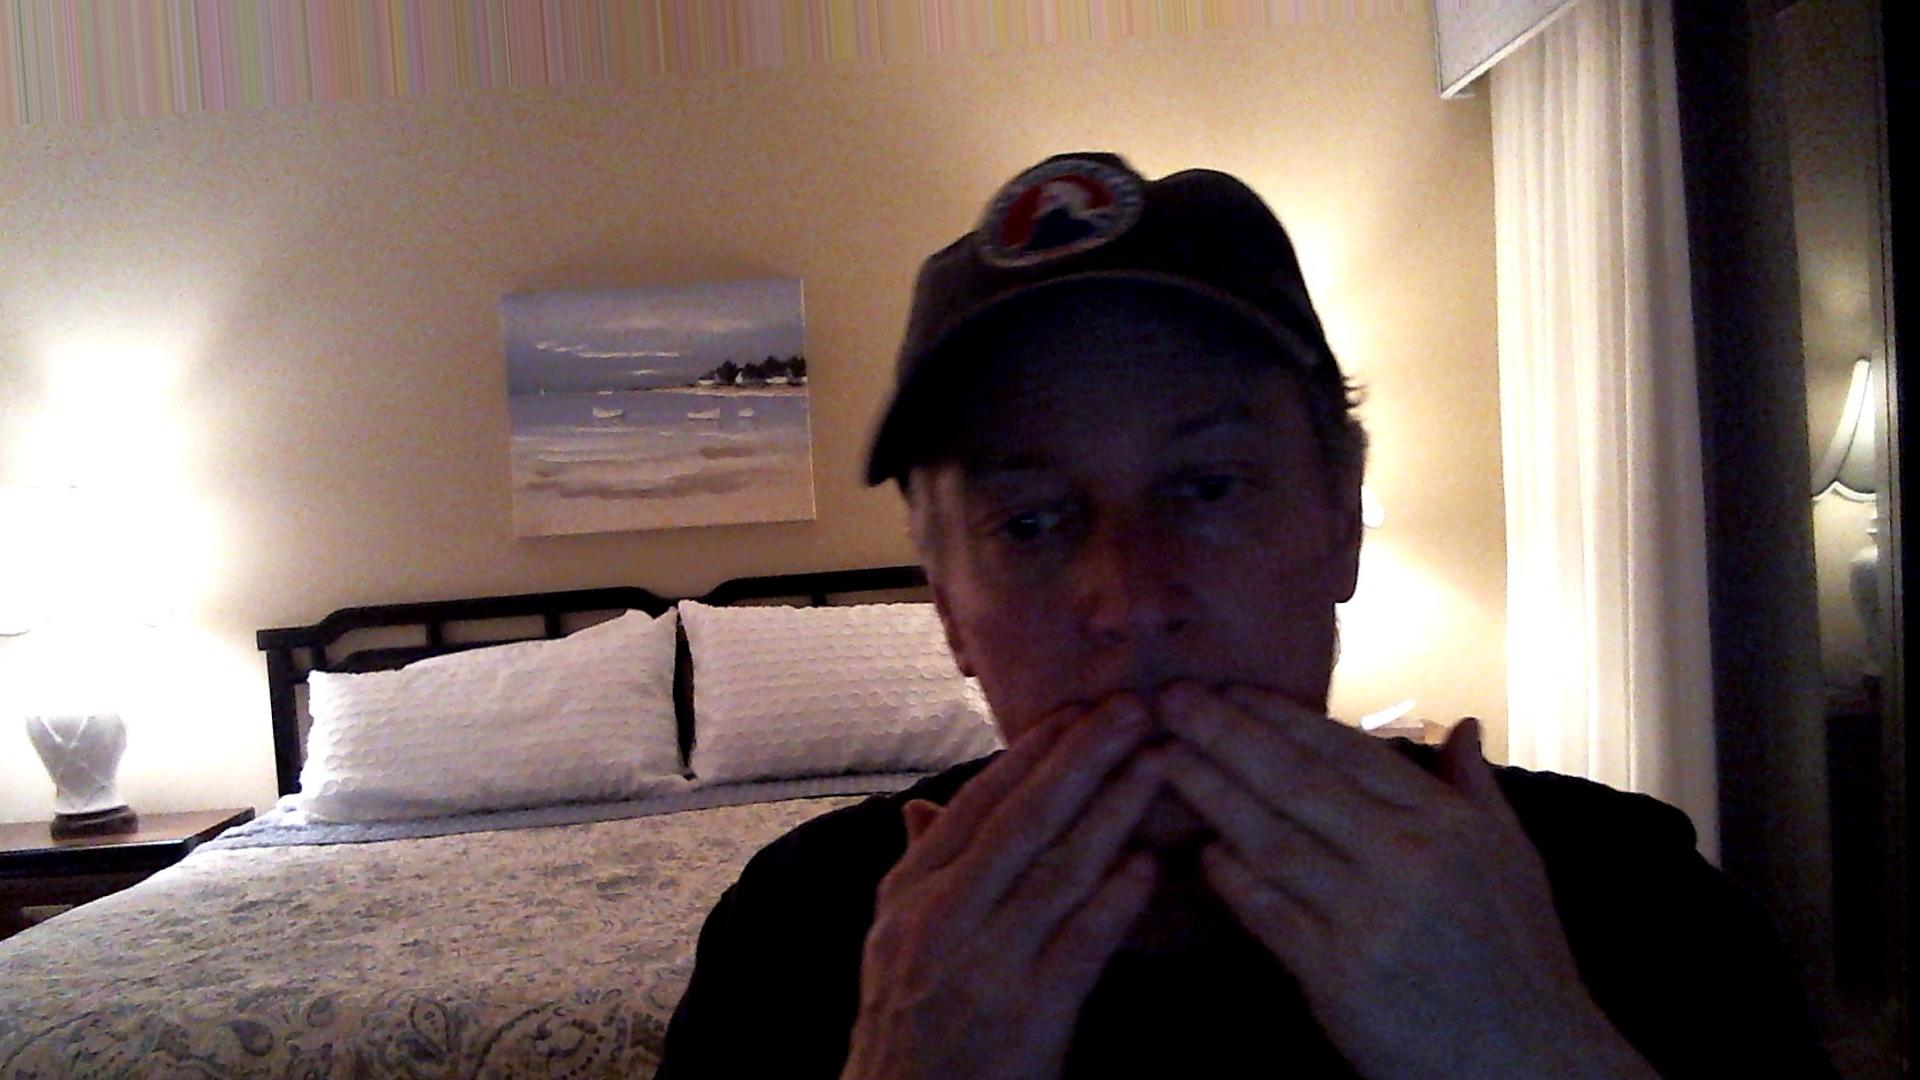Thank You: (823, 670, 1567, 1021)
